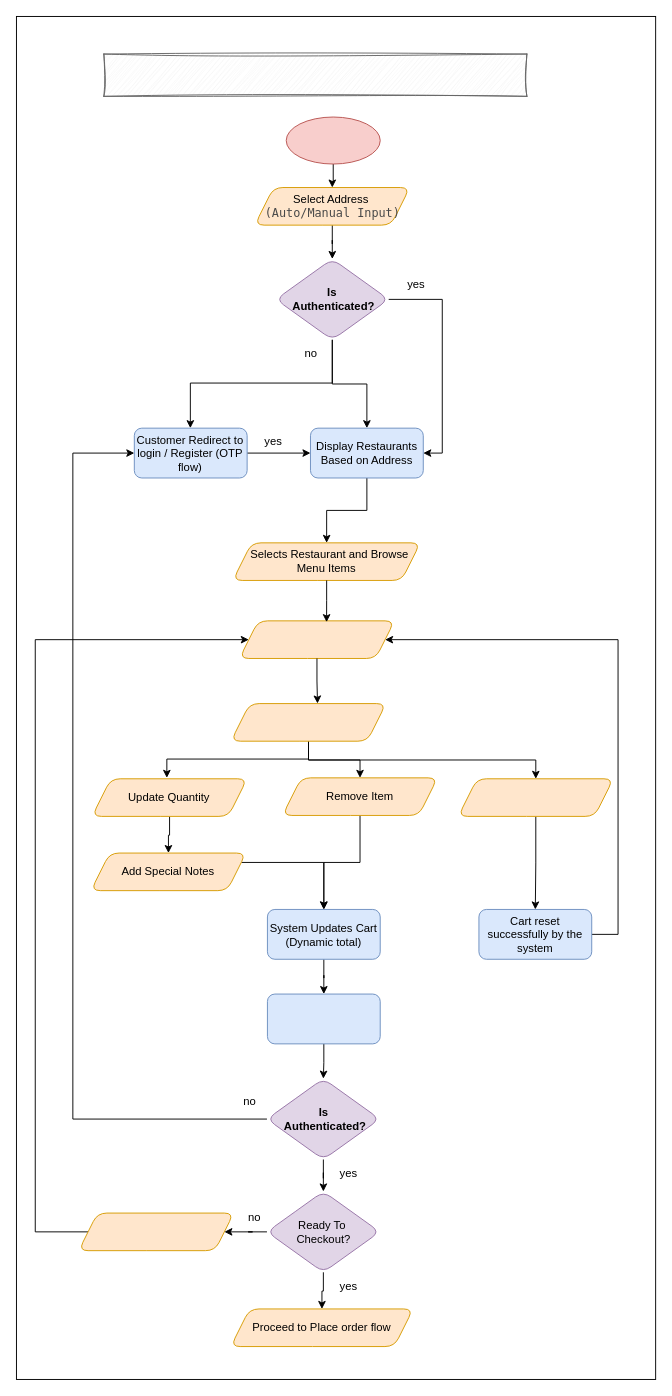
Image size: 672x1396. Some labels were removed from this diagram. Here are the shapes that lost their labels. From the top down, the box of each, then its label:
(103, 53, 527, 96): Customer Manages Shopping Cart Process
(285, 116, 380, 164): Customer open application
(238, 620, 395, 658): Add item to Cart (Cart Badge Updated)
(230, 703, 386, 741): Open Cart
(457, 778, 613, 816): Clear Cart
(266, 993, 380, 1044): can save cart for later / proceed to checkout
(78, 1212, 234, 1251): Continue Shopping
